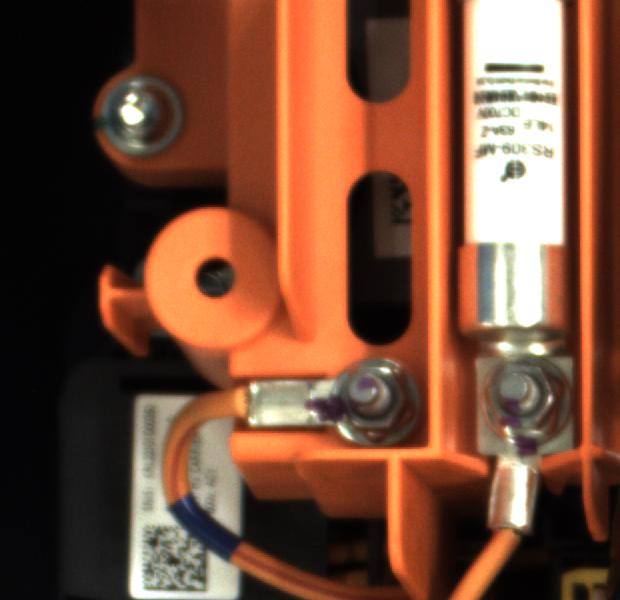screw_m: (95, 70, 198, 164)
screw_s: (474, 347, 571, 443), (326, 351, 424, 444)
